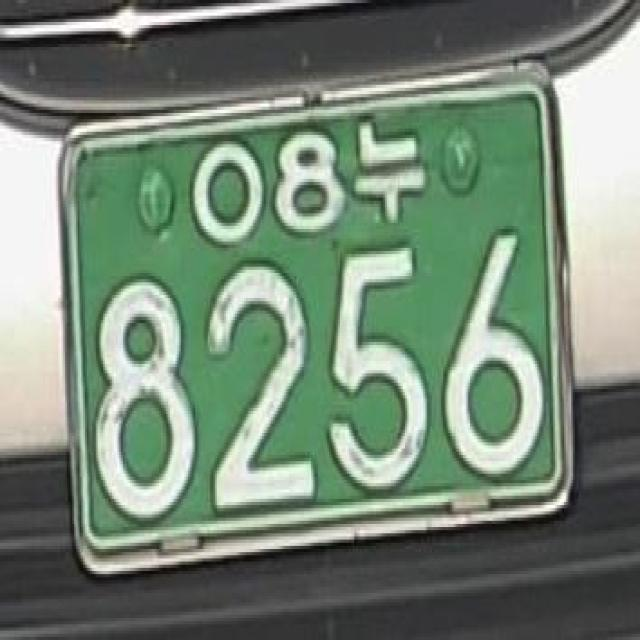illegal_plate: (56, 66, 599, 589)
